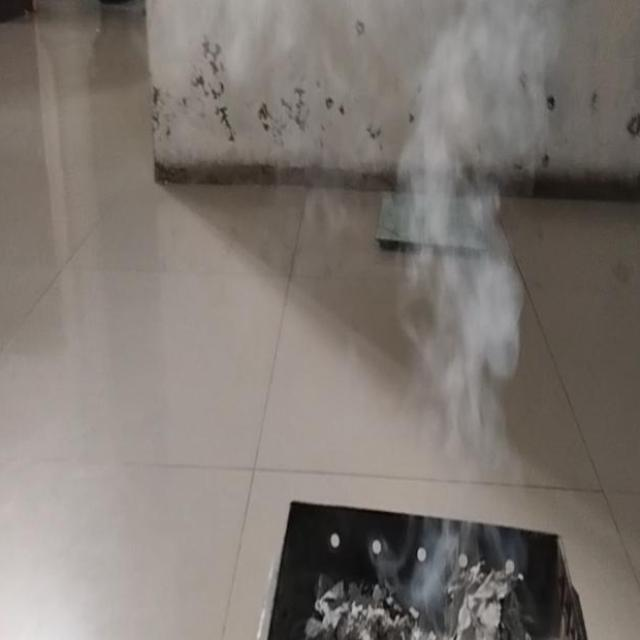fire: (391, 0, 544, 491)
